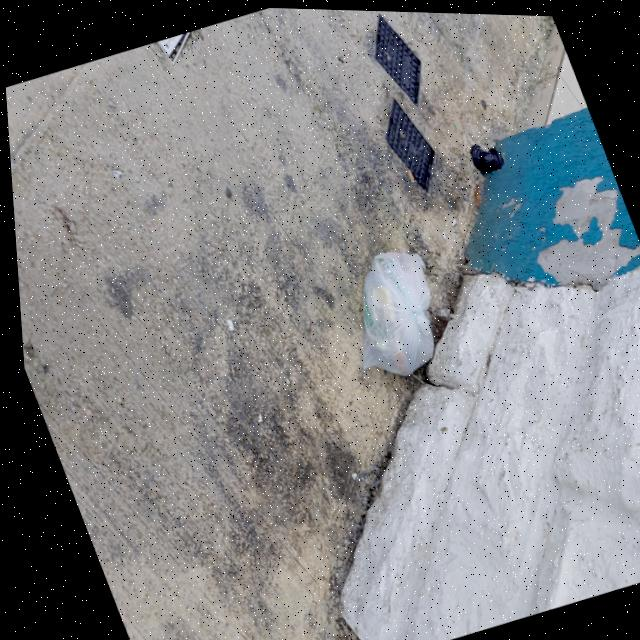Organic Waste -White Bag-: (317, 238, 459, 390)
